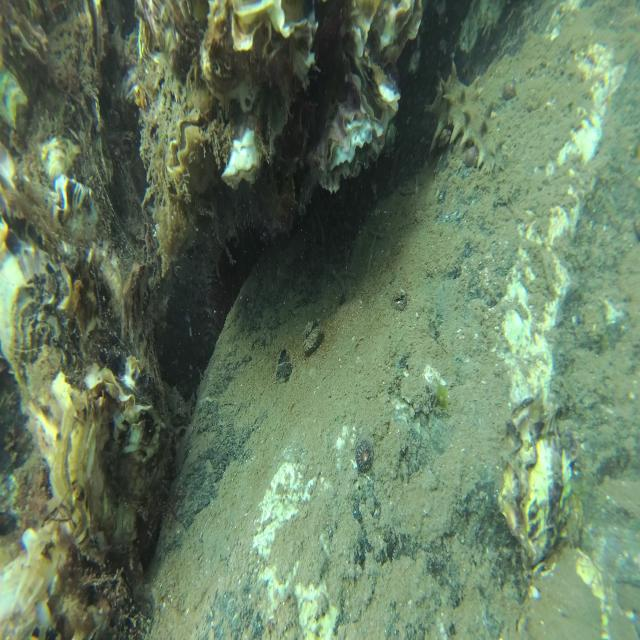echinus: (210, 218, 266, 303)
holothurian: (425, 59, 506, 176)
